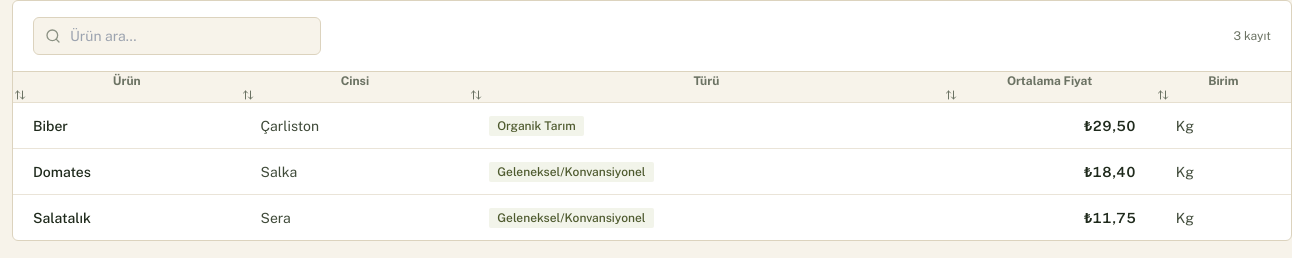
Test: PriceTable › sorts numerically when sorting by Ortalama Fiyat
Click the text "Ortalama Fiyat".
click(1050, 81)  # box [944,74,1092,101]
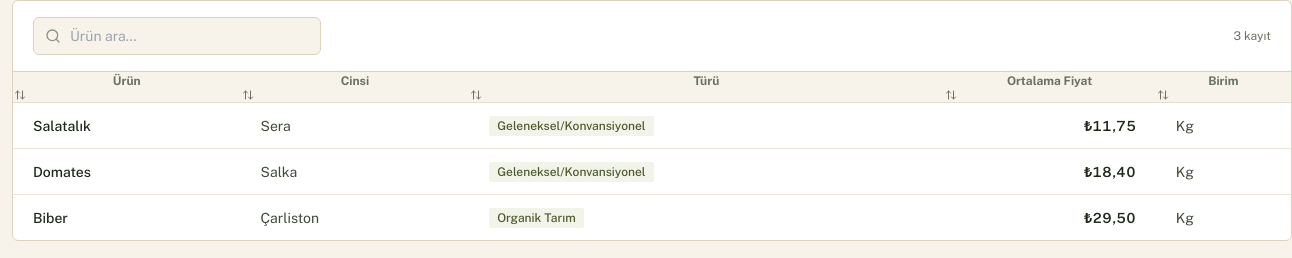
Expected: the links read "Salatalık", "Domates", "Biber", in this order, [33,118,91,134]; [33,164,91,180]; [33,210,68,226]
